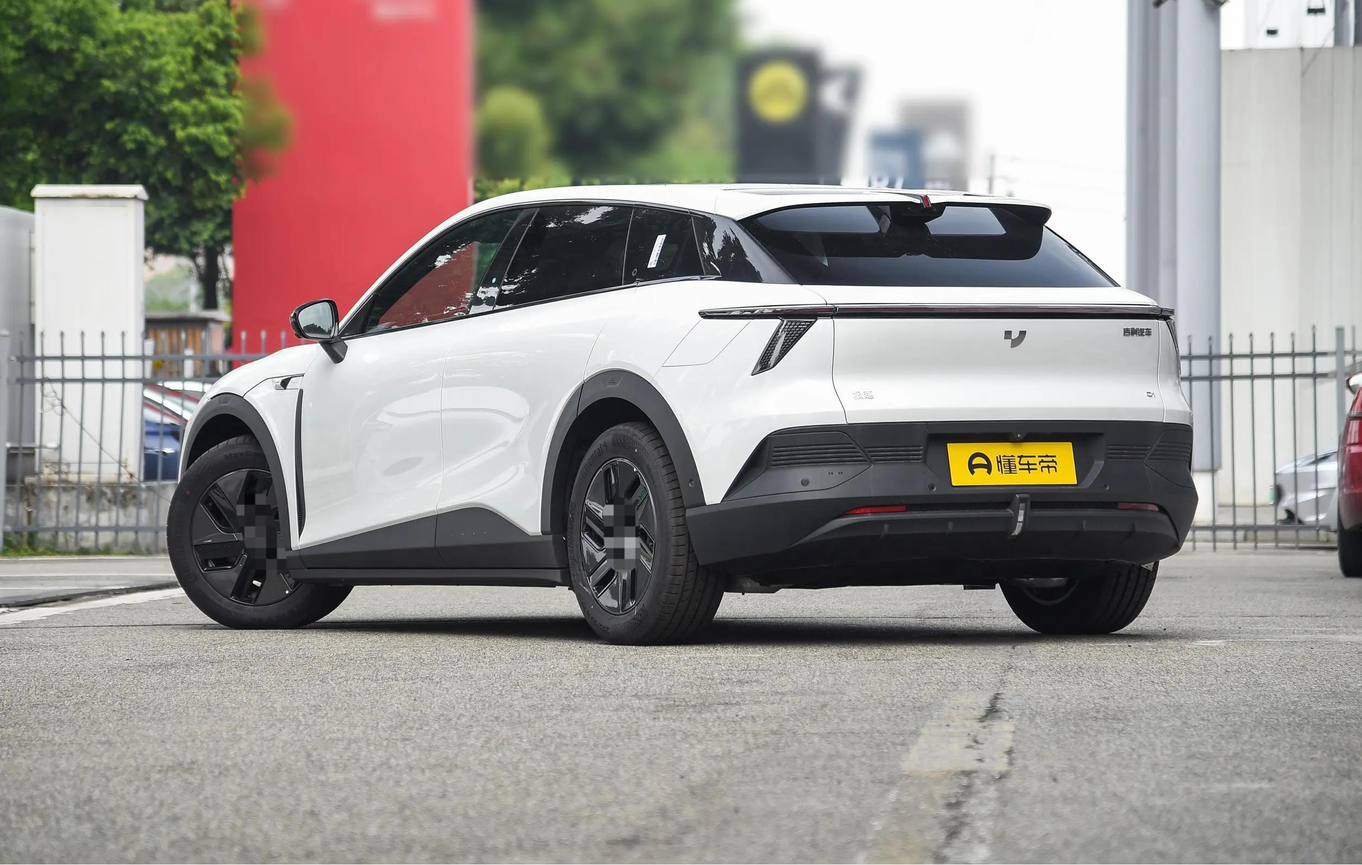JIYUE: (1003, 328, 1028, 350)
